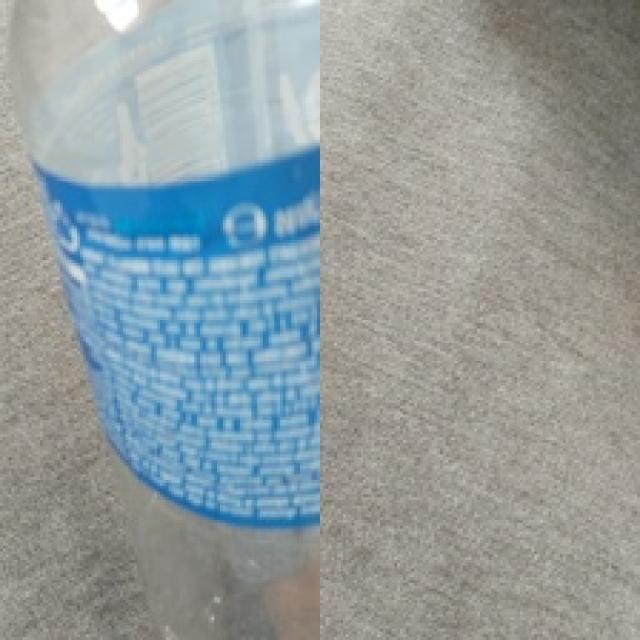bottle: (1, 0, 321, 640)
label: (34, 142, 328, 524)
